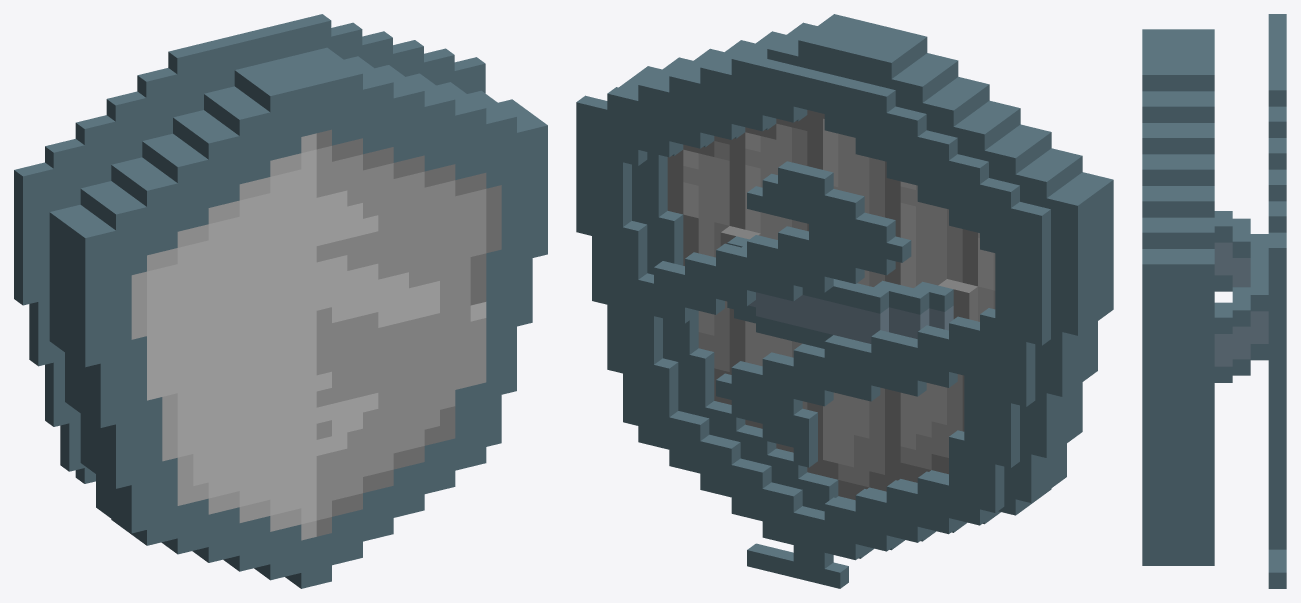
The picture shows the model from 3 angles, left to right: view 1: azimuth 30°, elevation 25°; view 2: azimuth 150°, elevation 25°; view 3: azimuth 270°, elevation 25°; orthographic projection.
Size of the model in its own units: 1.5 by 1.55 by 0.4.
